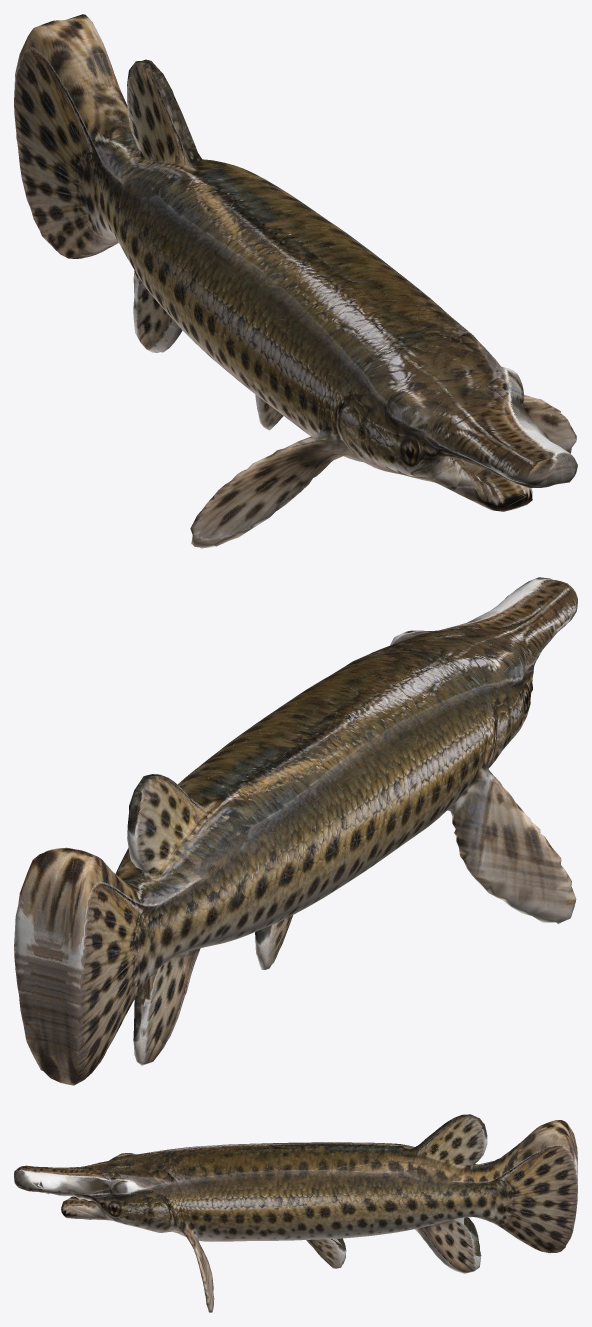
File: fish_spgar.glb
The picture shows the model from 3 angles, top to bottom: view 1: azimuth 30°, elevation 25°; view 2: azimuth 150°, elevation 25°; view 3: azimuth 270°, elevation 25°; orthographic projection. The views are drawn at different scales.
Visible parts, largest first — view 1: geometry_0; view 2: geometry_0; view 3: geometry_0.
Boxes of the visible parts, left/top/right/bottom form: geometry_0: left=14, top=14, right=577, bottom=548; geometry_0: left=14, top=577, right=577, bottom=1085; geometry_0: left=14, top=1114, right=577, bottom=1312.
Size of the model in its own units: 0.8532 by 0.6089 by 1.96.
Materials: 1 (1 with a texture image).
